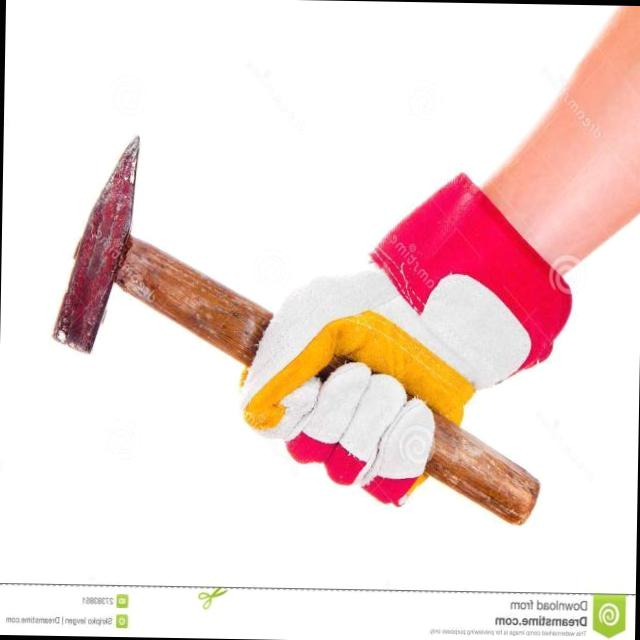hammer: (53, 137, 271, 366), (425, 413, 538, 524)
